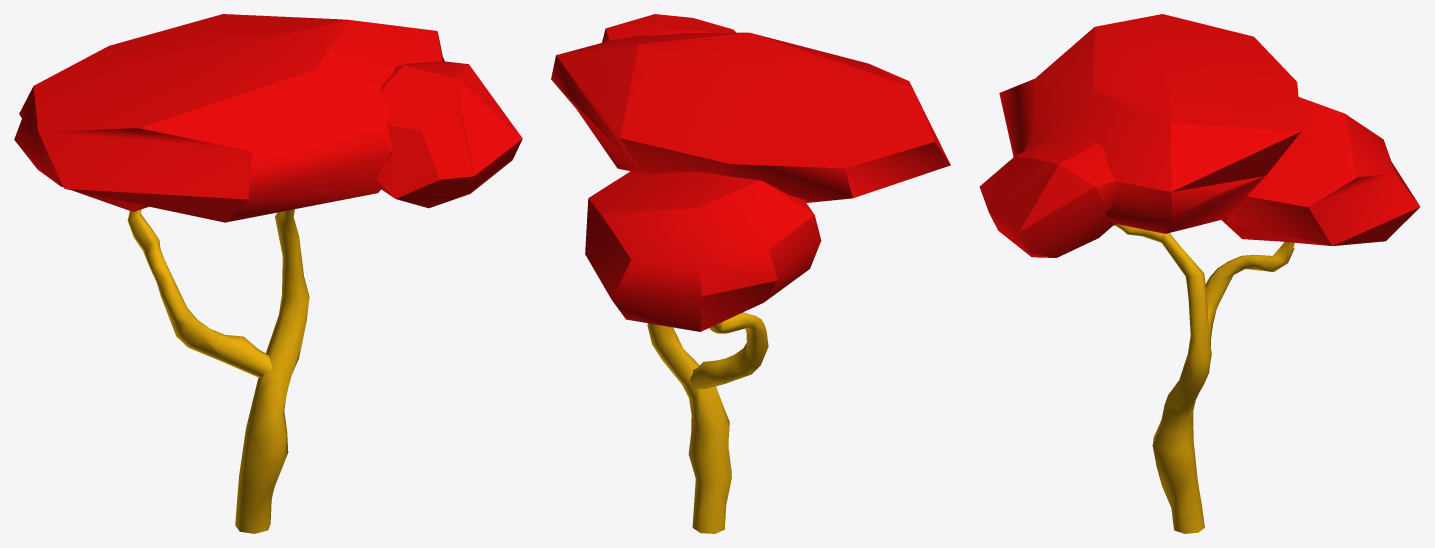
File: Tree_3.fbx
The picture shows the model from 3 angles, left to right: view 1: azimuth 30°, elevation 25°; view 2: azimuth 150°, elevation 25°; view 3: azimuth 270°, elevation 25°; orthographic projection. The views are drawn at different scales.
Parts seen in each view (by area): view 1: Tree_3; view 2: Tree_3; view 3: Tree_3.
Part boxes in pixels (box(x1,y1,x2,y2)): Tree_3: box(14, 14, 522, 533); Tree_3: box(551, 14, 950, 533); Tree_3: box(979, 14, 1420, 533).
Bounding box in the file's own units: 6.47 × 7.47 × 6.73.
